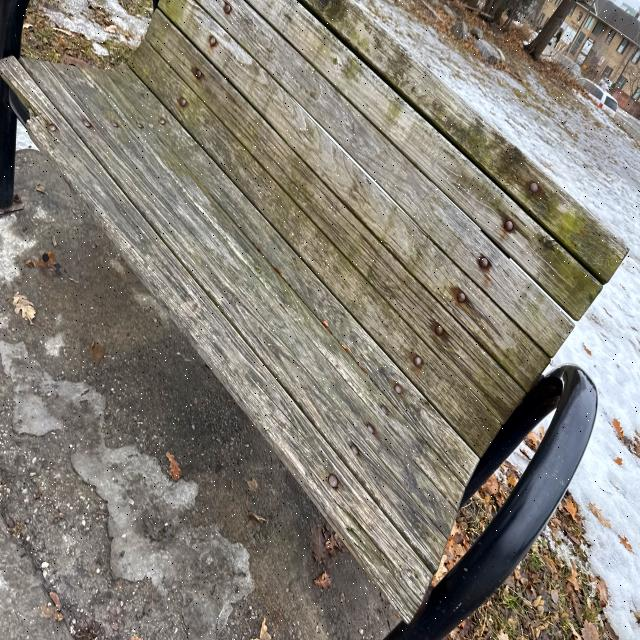Bench: (199, 216, 624, 606), (0, 0, 524, 312)
